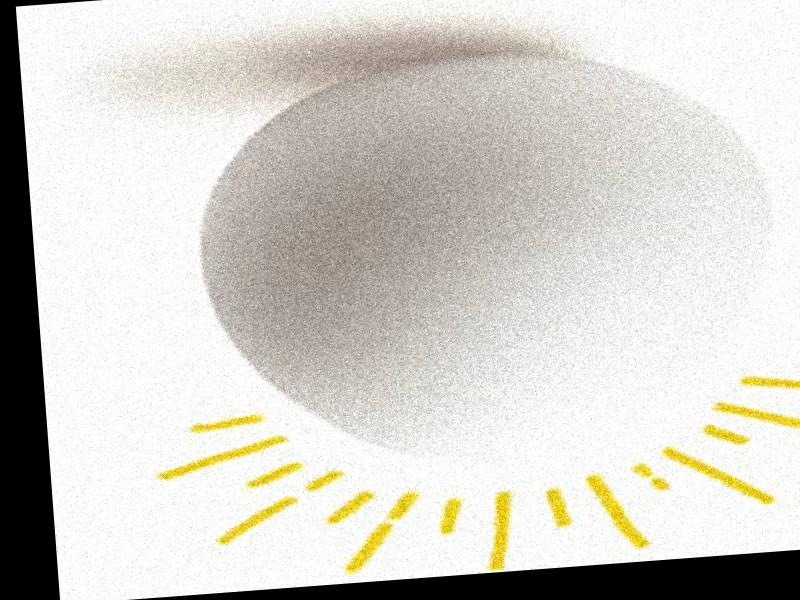Eggs: (188, 34, 793, 479)
